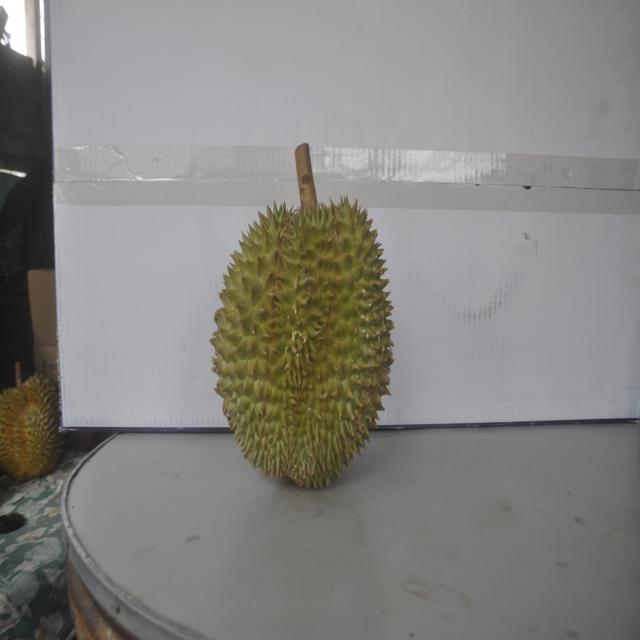mature: (211, 178, 394, 490), (0, 371, 63, 482)
